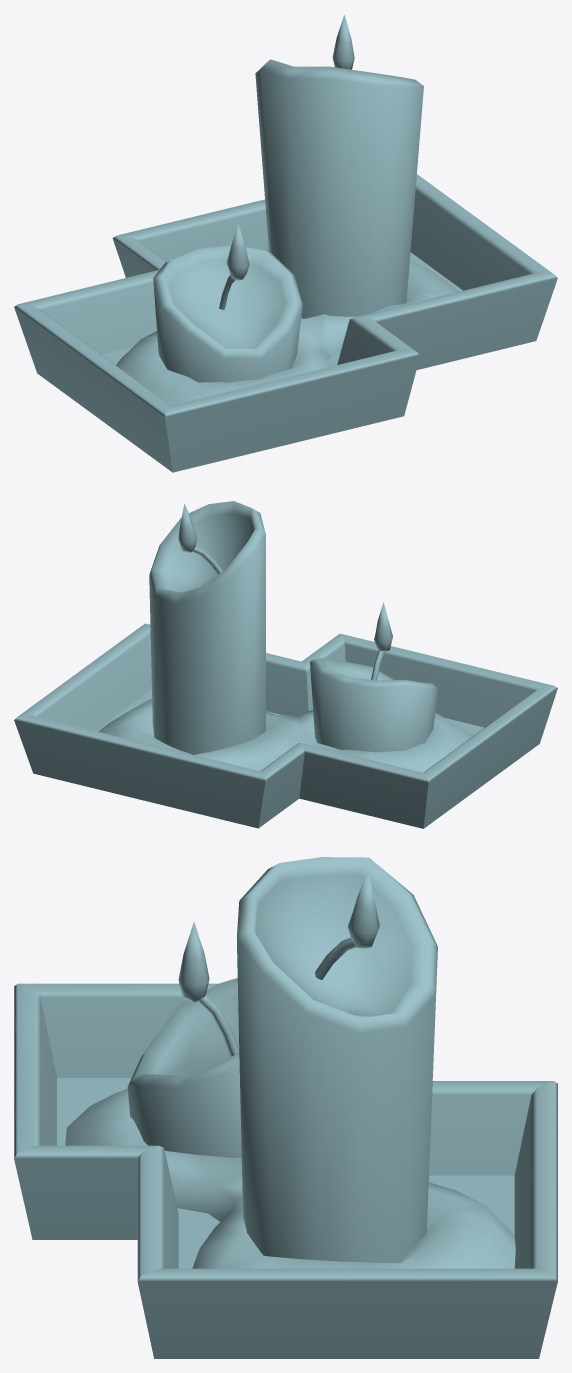
File: HalloweenRoomA_CandleC.fbx
3 renders of one model, top to bottom at view 1: azimuth 30°, elevation 25°; view 2: azimuth 150°, elevation 25°; view 3: azimuth 270°, elevation 25°, orthographic. The views are drawn at different scales.
Parts seen in each view (by area): view 1: HalloweenRoomA_CandleC; view 2: HalloweenRoomA_CandleC; view 3: HalloweenRoomA_CandleC.
Part boxes in pixels (x1,y1,x2,y2): HalloweenRoomA_CandleC: (14,15,557,472); HalloweenRoomA_CandleC: (14,501,557,828); HalloweenRoomA_CandleC: (14,857,557,1358).
Size of the model in its own units: 15.81 by 10.29 by 12.31.
